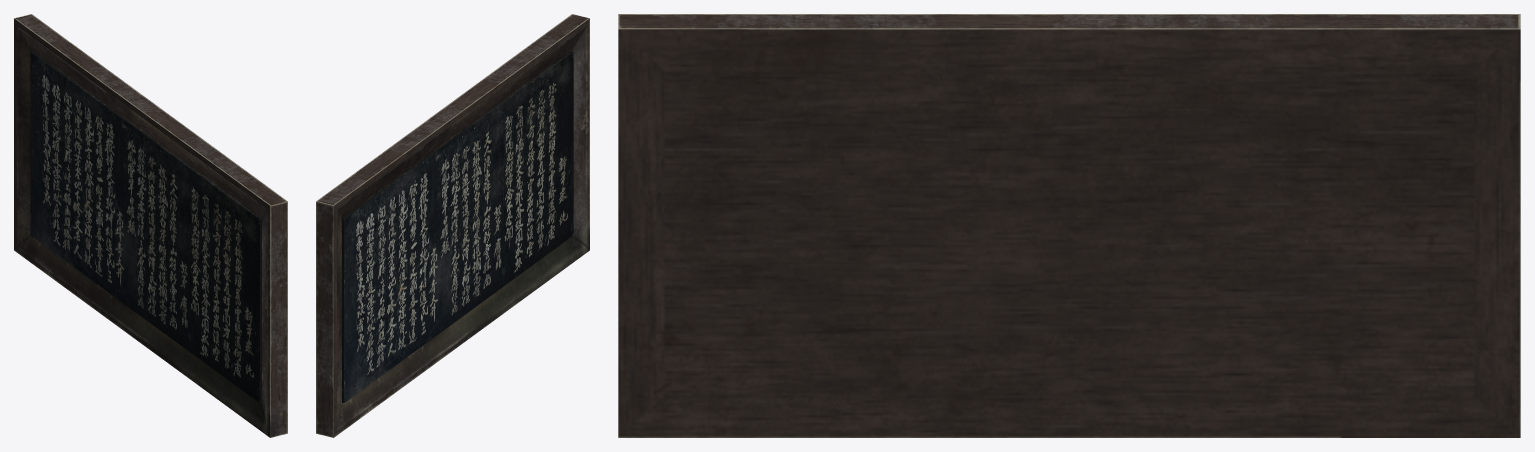
The model's file is SM_JWD_Tablet01c.fbx.
3 views of the same model, side by side, from view 1: azimuth 30°, elevation 25°; view 2: azimuth 150°, elevation 25°; view 3: azimuth 270°, elevation 25° (orthographic). The views are drawn at different scales.
Visible parts, largest first — view 1: SM_JWD_Tablet01c; view 2: SM_JWD_Tablet01c; view 3: SM_JWD_Tablet01c.
Part boxes in pixels (x1,y1,x2,y2): SM_JWD_Tablet01c: (14,14,287,437); SM_JWD_Tablet01c: (316,14,589,437); SM_JWD_Tablet01c: (618,14,1520,437).
Bounding box in the file's own units: 4 × 100 × 50.
1 material, 1 textured.
